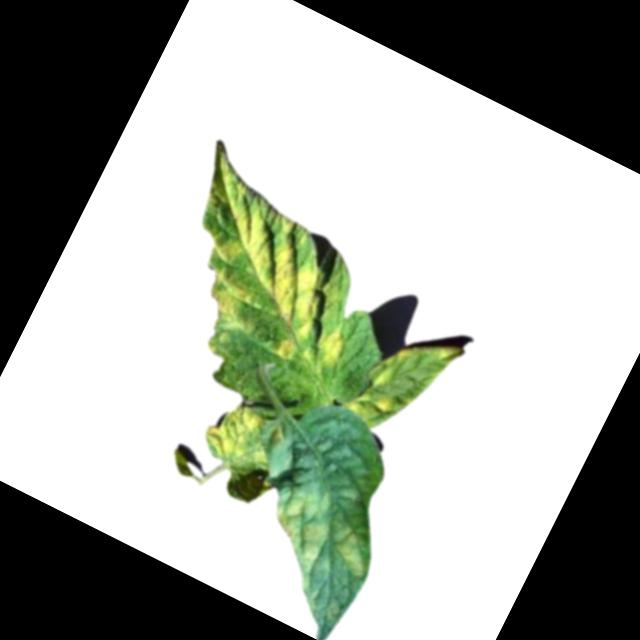Leaf_Mold: (145, 143, 400, 383), (256, 476, 391, 599), (196, 395, 288, 485), (341, 378, 395, 427)
